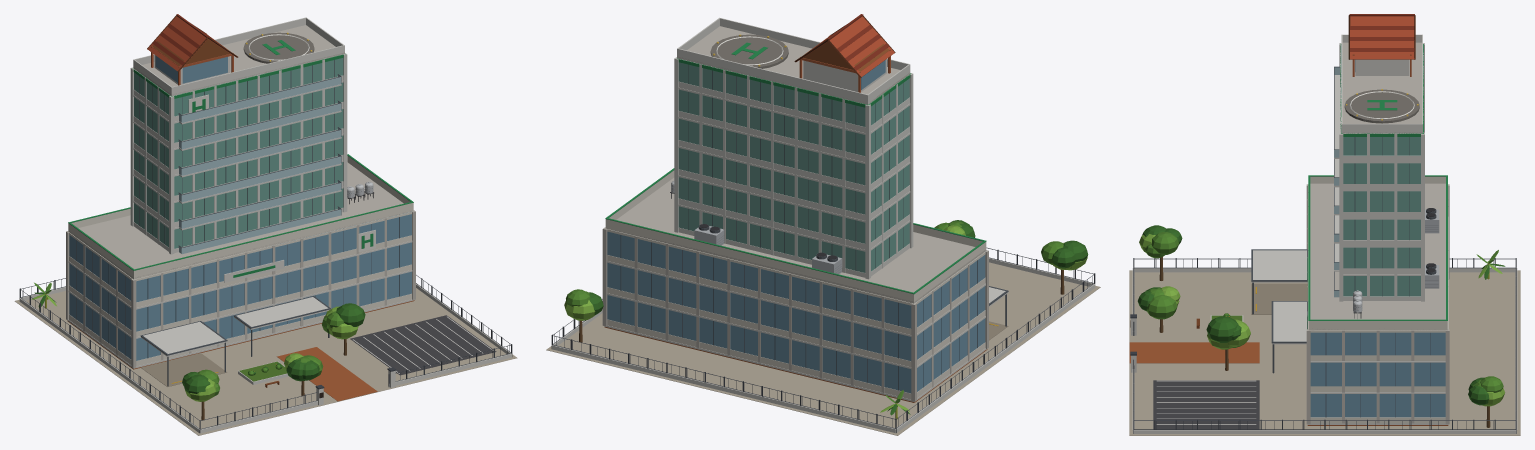
File: hospital.glb
The picture shows the model from 3 angles, left to right: view 1: azimuth 30°, elevation 25°; view 2: azimuth 150°, elevation 25°; view 3: azimuth 270°, elevation 25°; orthographic projection. The views are drawn at different scales.
Parts seen in each view (by area): view 1: body; view 2: body; view 3: body.
Boxes of the visible parts, x1,y1,x2,y2 form: body: (14, 14, 517, 435); body: (546, 14, 1100, 435); body: (1129, 14, 1520, 435).
Bounding box in the file's own units: 47.9 × 42.5 × 47.9.
